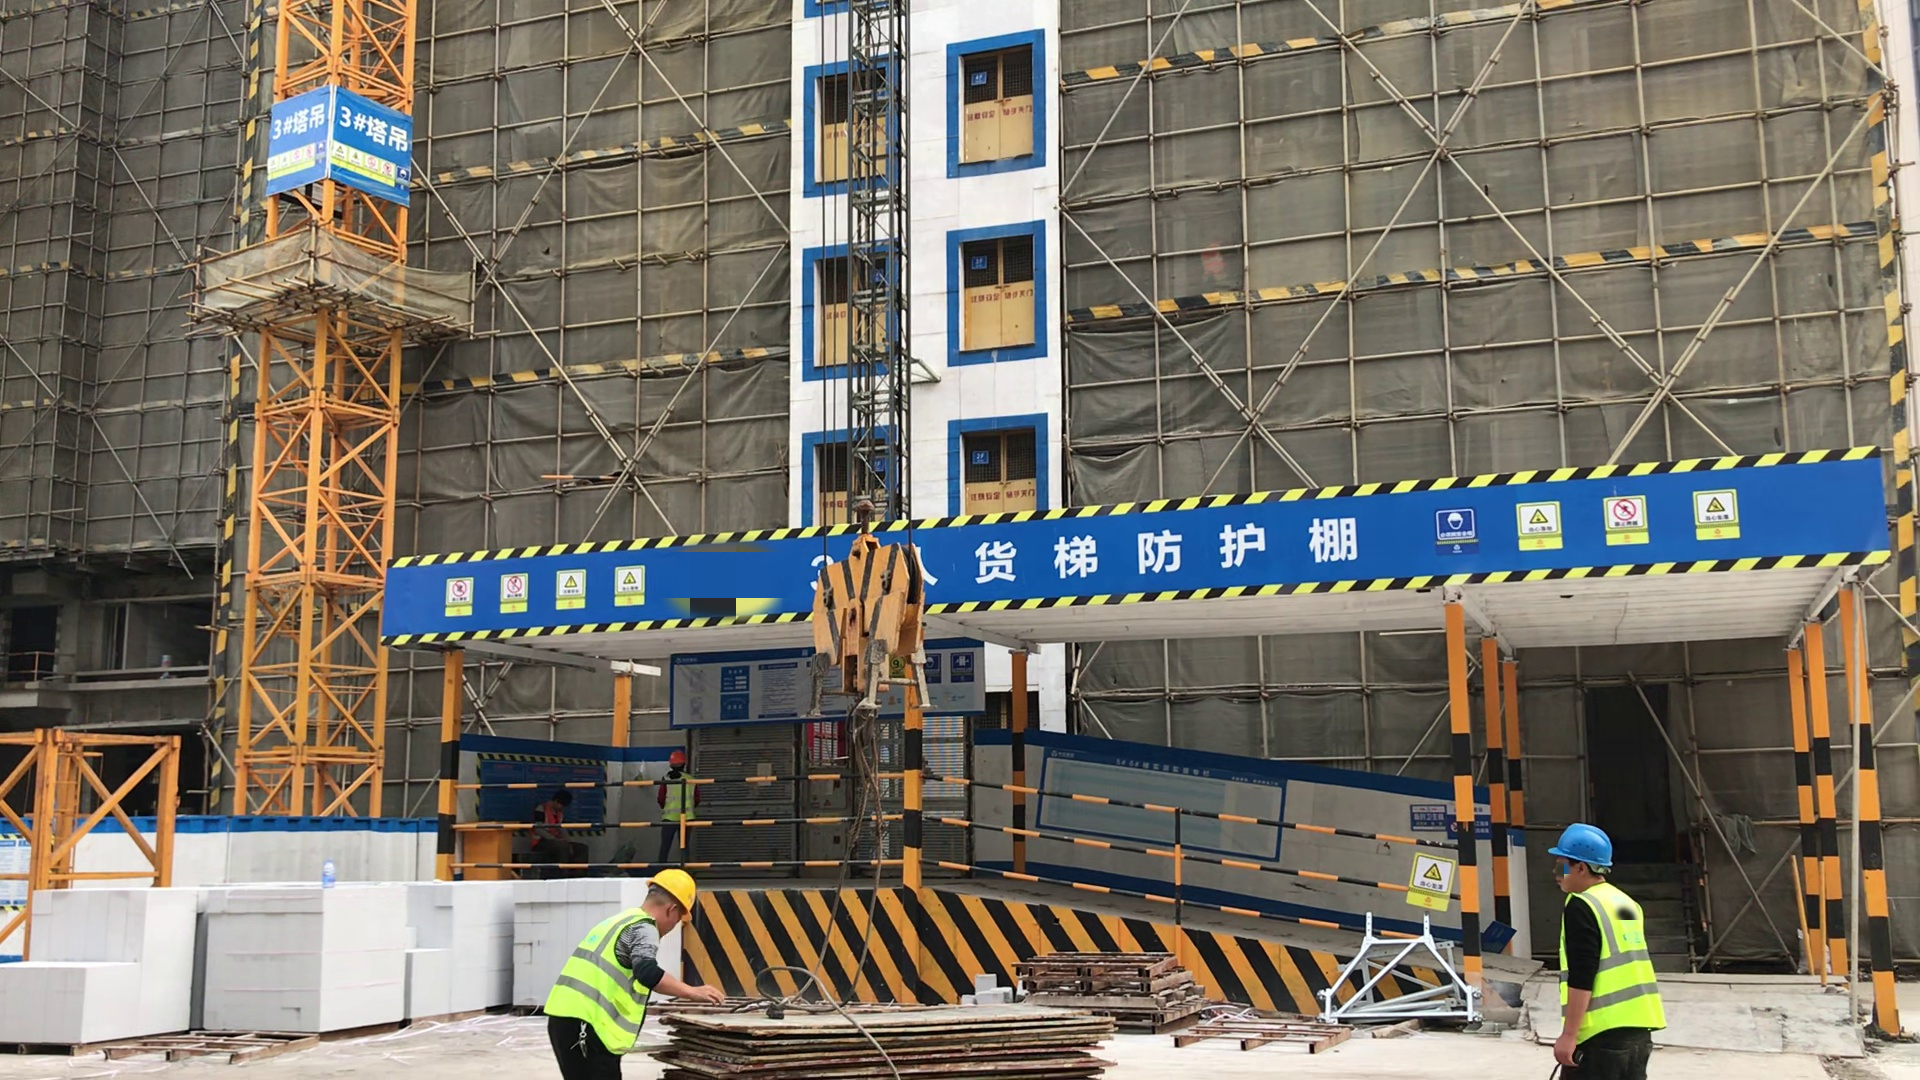board: (664, 1009, 1117, 1076)
brick: (1, 873, 514, 1046), (507, 869, 648, 1014)
ebox: (454, 821, 511, 879)
helmet: (1547, 823, 1618, 866), (647, 864, 701, 918), (667, 748, 688, 766)
hook: (807, 494, 933, 768)
person: (541, 864, 697, 1080), (1542, 818, 1666, 1080), (660, 745, 702, 868), (532, 788, 590, 865)
slogan: (974, 515, 1364, 584), (1440, 484, 1742, 560), (265, 94, 417, 204), (442, 564, 649, 616), (1408, 852, 1456, 909)
vest: (1562, 882, 1666, 1040), (541, 914, 661, 1046), (665, 771, 695, 823), (540, 802, 565, 839)
